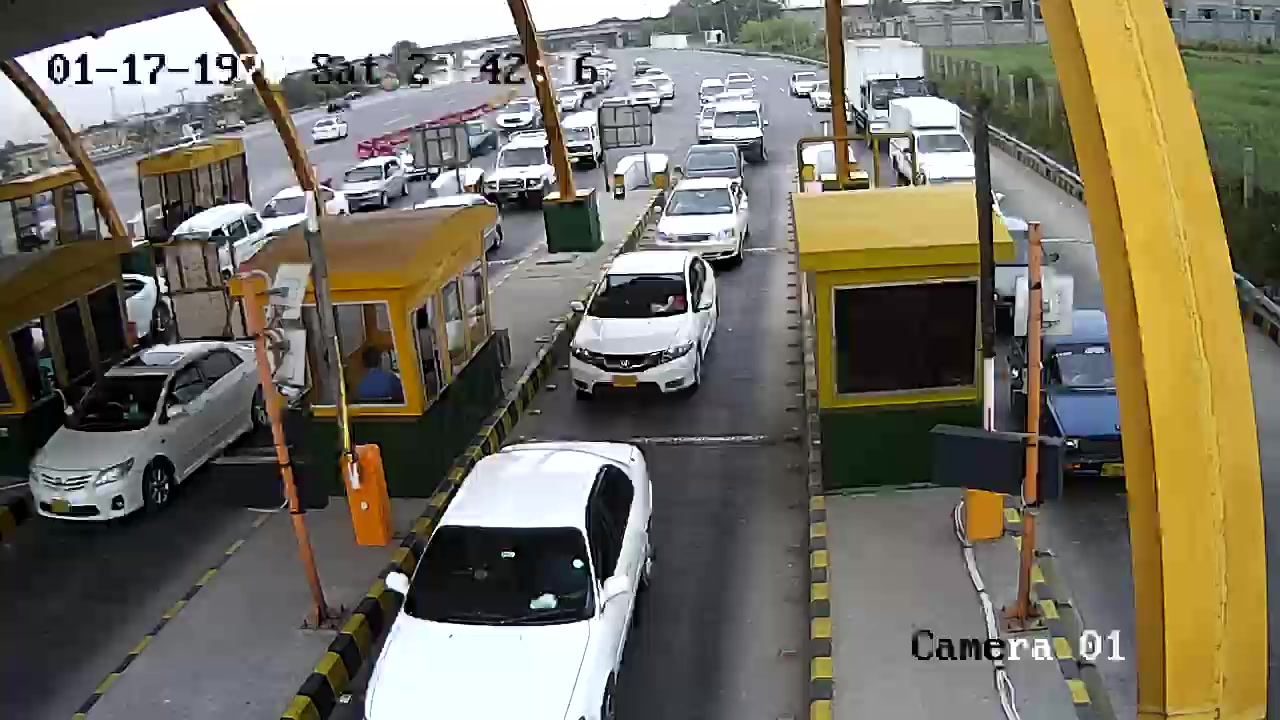F1: (564, 243, 728, 414)
